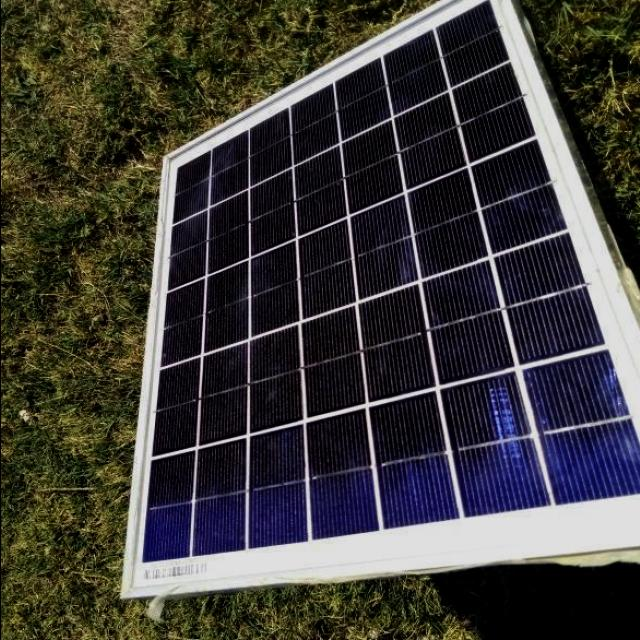Normal Solar Panel: (124, 0, 640, 592)
